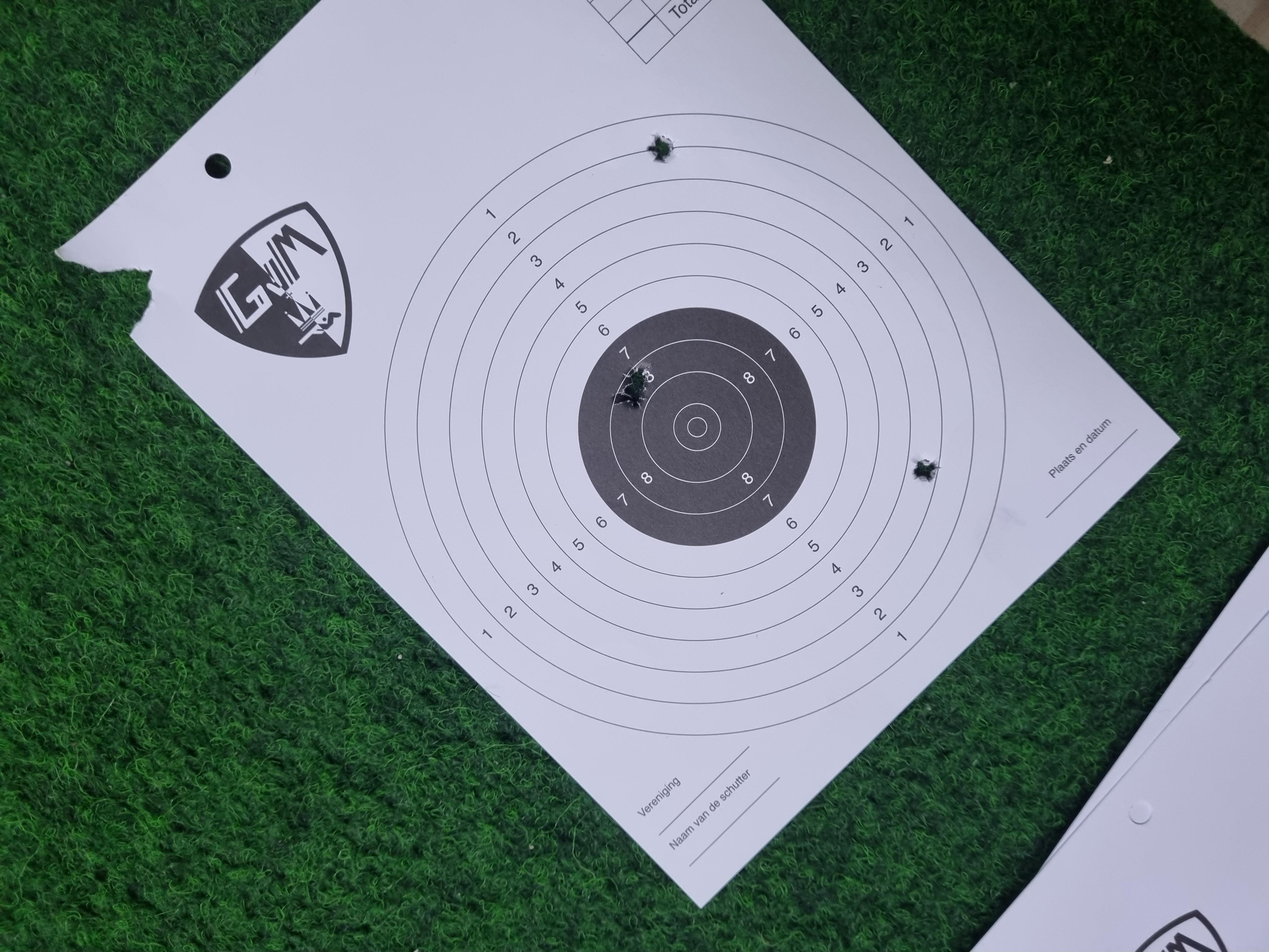hole: (1051, 485, 1088, 507), (625, 683, 658, 707), (725, 461, 754, 484), (752, 467, 783, 487)
